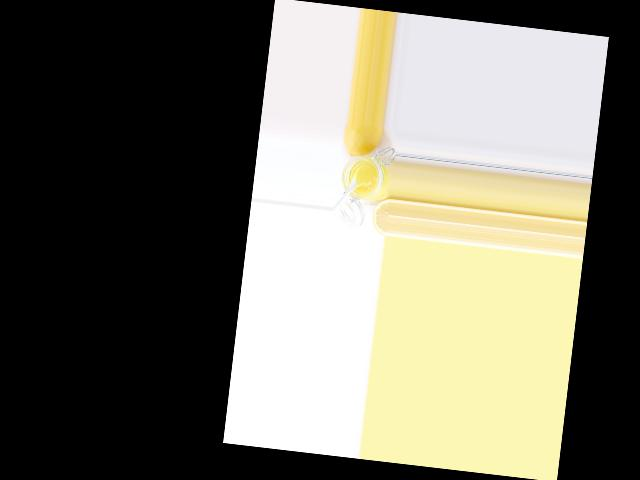lemon: (342, 123, 382, 160)
